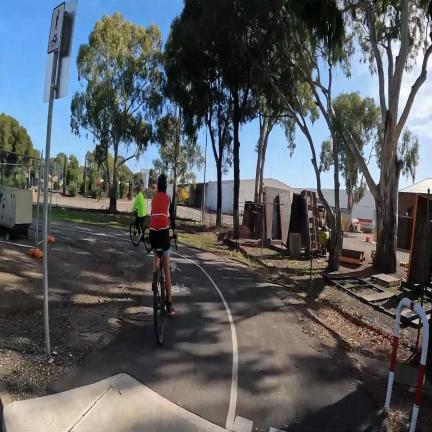Bike_Lane: (52, 234, 375, 432)
Bike_Sign: (44, 0, 77, 159)
